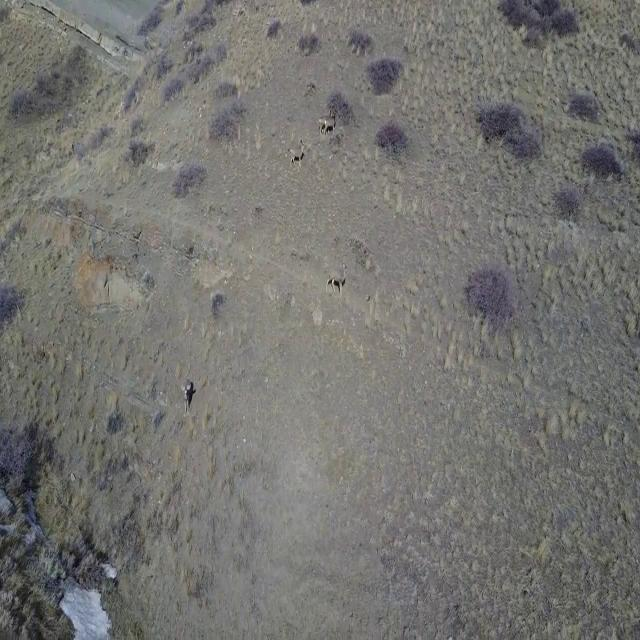Deer: (324, 257, 352, 299), (181, 376, 197, 424), (318, 106, 340, 140), (286, 138, 310, 168)
